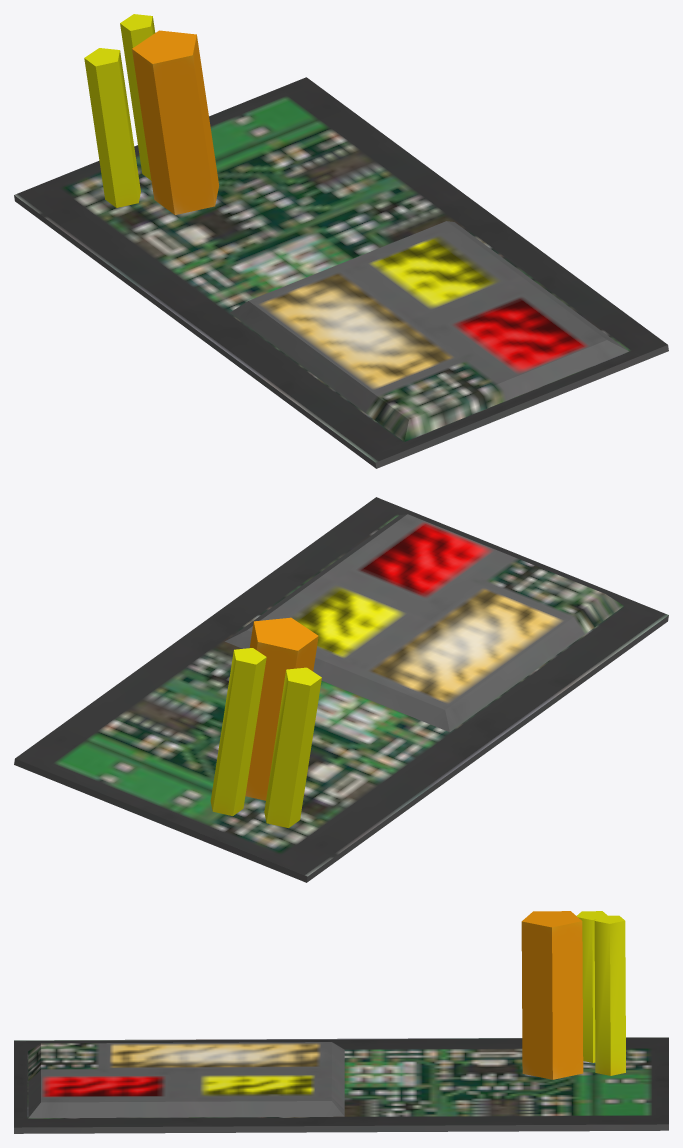
Rendered from electronic_parts.obj.
3 views of the same model, one above another, from view 1: azimuth 30°, elevation 25°; view 2: azimuth 150°, elevation 25°; view 3: azimuth 270°, elevation 25° (orthographic). The views are drawn at different scales.
Visible parts, largest first — view 1: Cylinder02; view 2: Cylinder02; view 3: Cylinder02.
Boxes of the visible parts, x1=… form: Cylinder02: x1=14, y1=14, x2=668, y2=468; Cylinder02: x1=14, y1=497, x2=668, y2=882; Cylinder02: x1=14, y1=911, x2=668, y2=1133.
Bounding box in the file's own units: 1.69 × 1.04 × 3.6.
